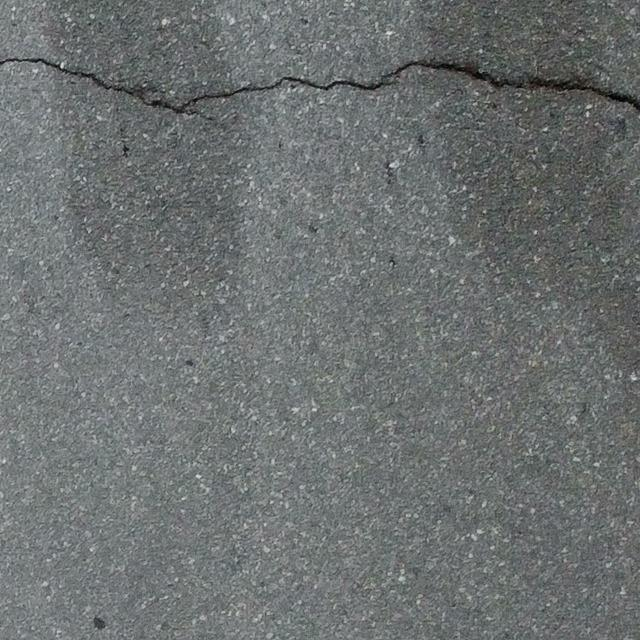TransverseCrack: (1, 53, 640, 121)
